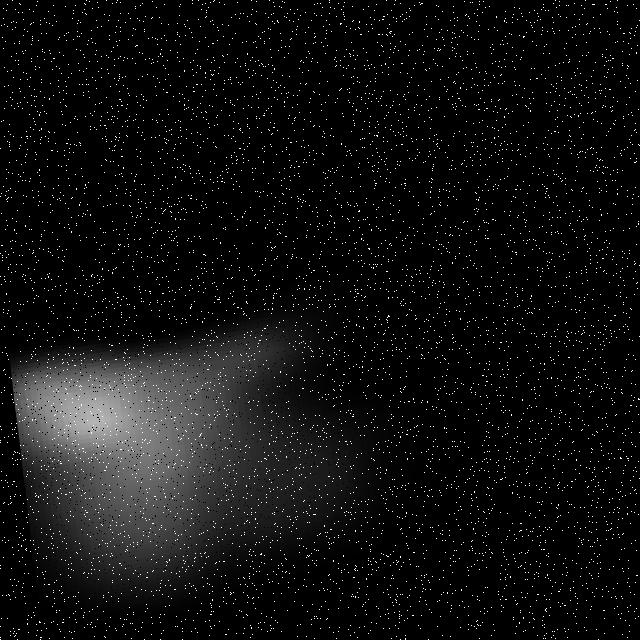person: (4, 253, 513, 638)
